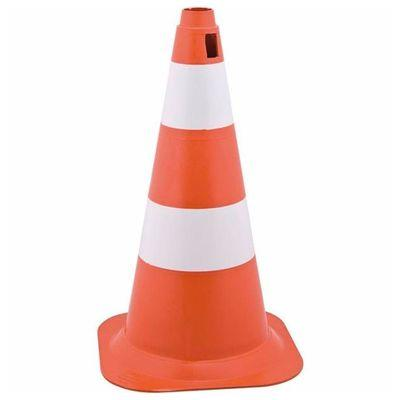traffic_cone: (97, 6, 304, 393)
